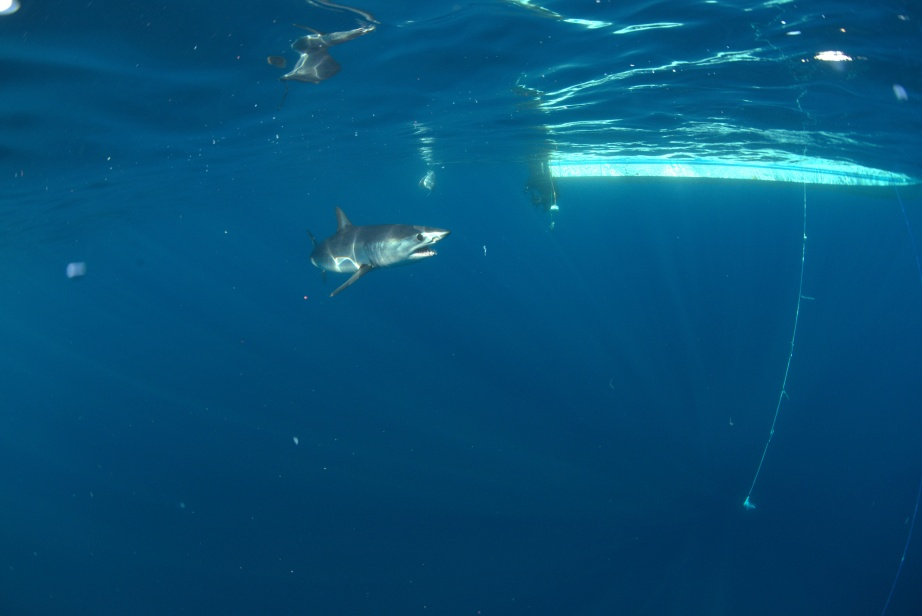Mako: (285, 206, 456, 303)
